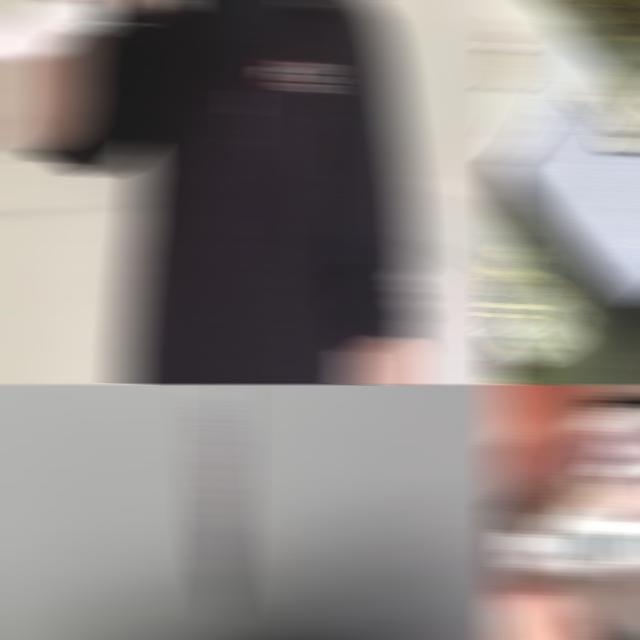Knife: (187, 384, 244, 618)
Knife_Handle: (0, 0, 194, 78), (490, 547, 640, 640)
